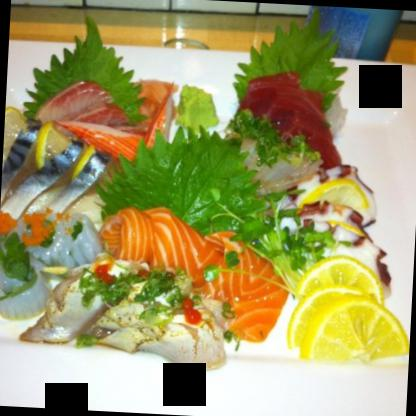lemon: (291, 251, 406, 368)
salmon: (96, 207, 286, 342)
